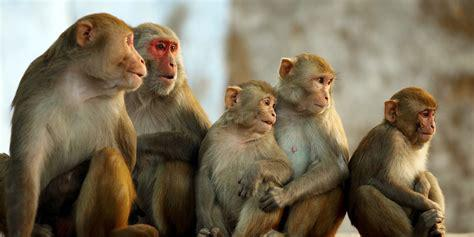monkey: (1, 13, 156, 237), (131, 23, 211, 237), (348, 86, 444, 237), (197, 81, 289, 237), (277, 54, 348, 237)
